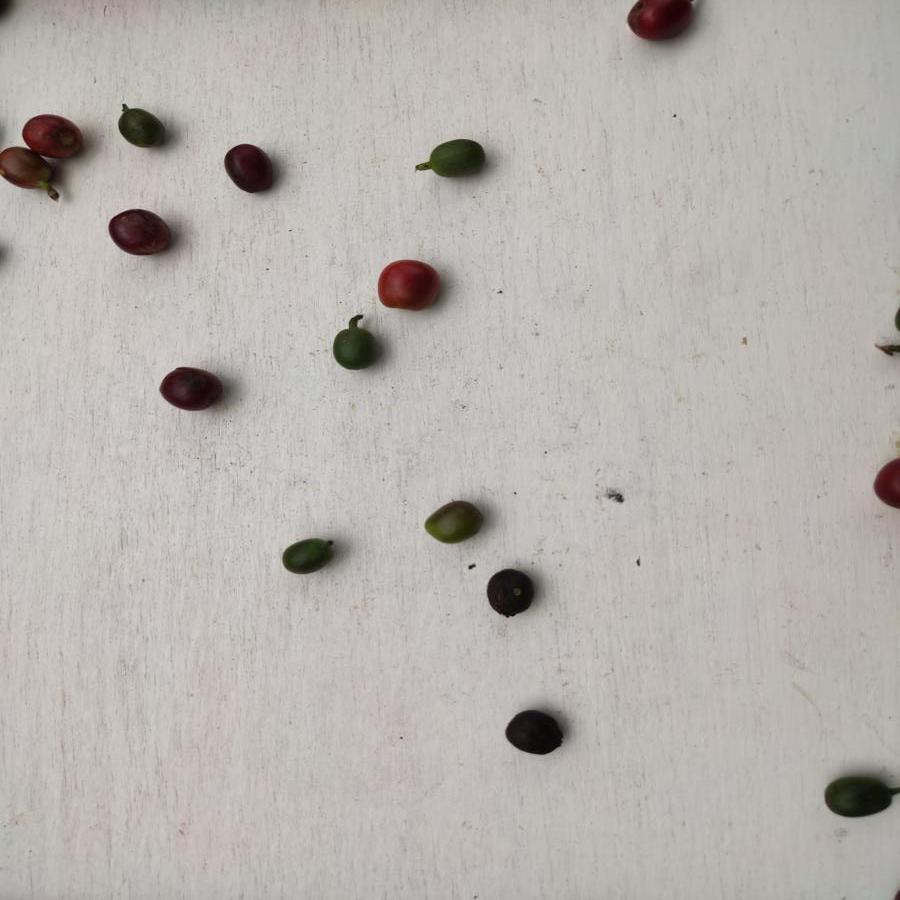Inmaduro: (822, 774, 895, 819), (420, 137, 485, 180), (112, 106, 167, 151), (279, 534, 335, 576), (332, 324, 378, 373)
Maduro: (374, 258, 448, 312), (19, 112, 88, 159), (621, 1, 695, 40)
Pinton: (421, 499, 484, 547), (1, 147, 53, 193)
Sobremaduro: (155, 363, 225, 413), (109, 208, 173, 258), (504, 708, 567, 758), (220, 141, 277, 192), (484, 568, 537, 619)
